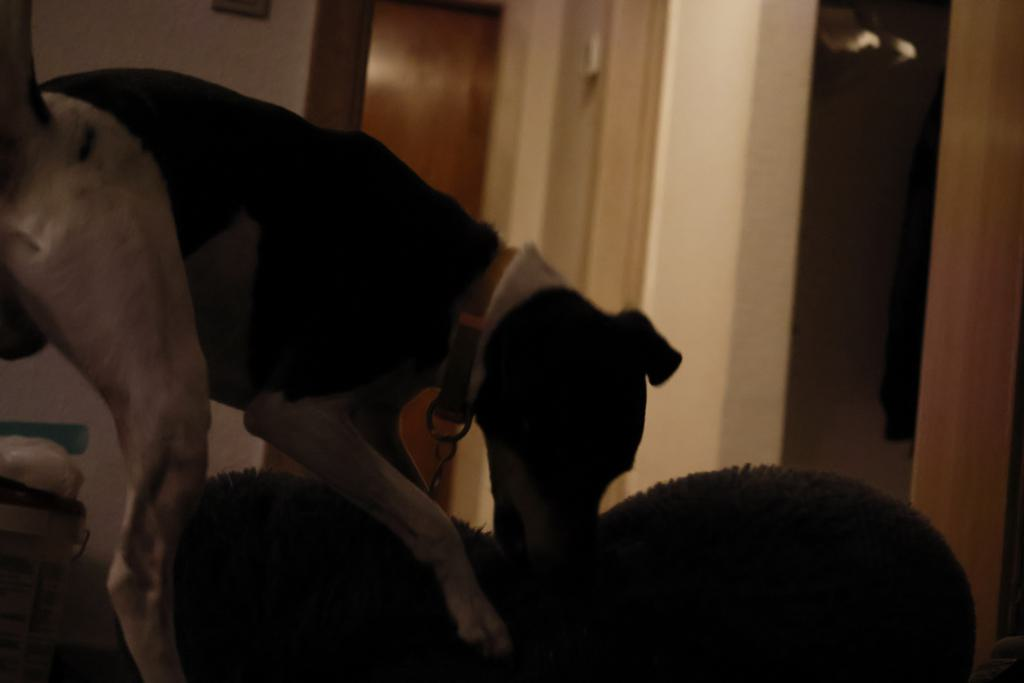Dog: (0, 0, 690, 683)
